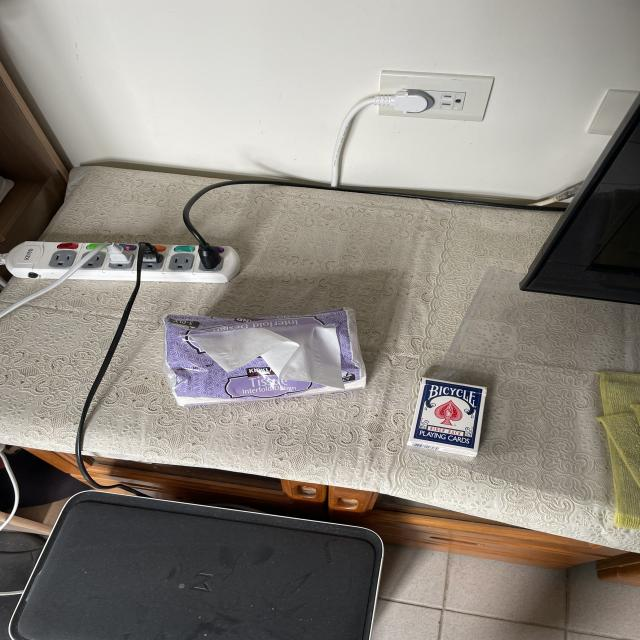tissue: (159, 305, 371, 408)
